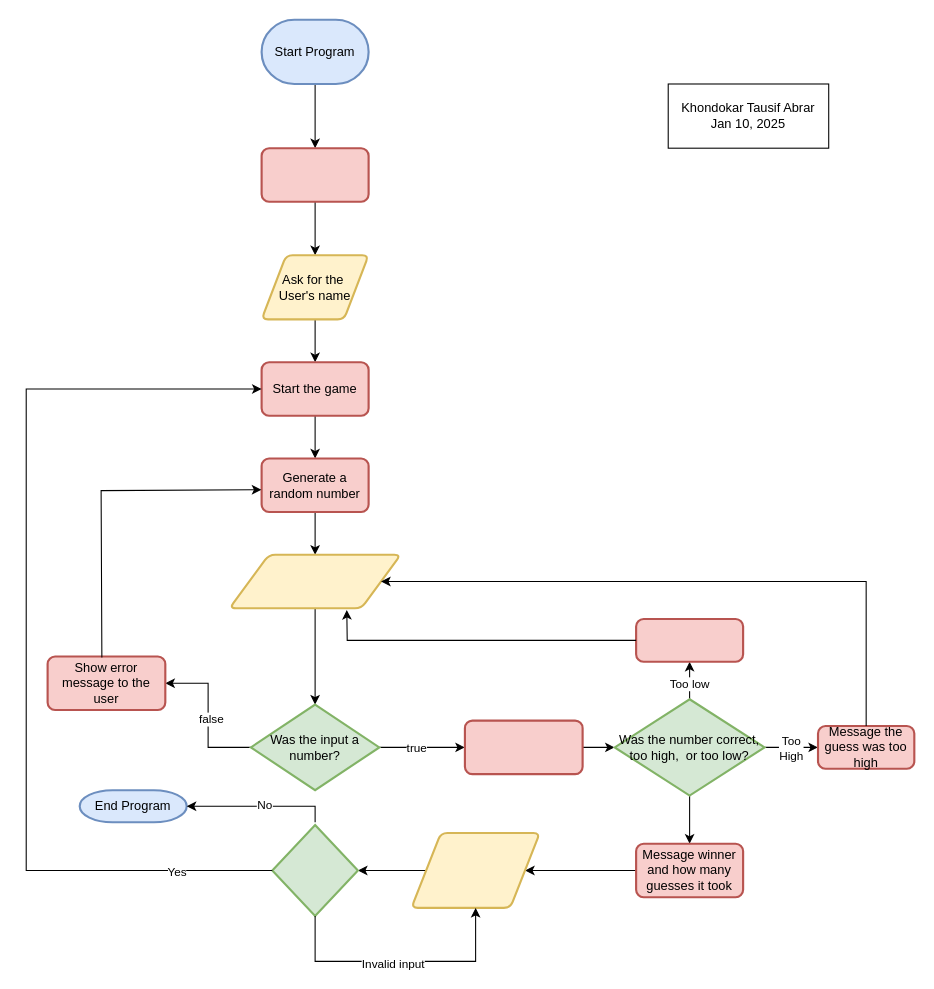
Some shapes in this 934 by 989 pixel diagram are drawn without their labels. The shapes that lost their labels are listed below. From the top down, each one's centre as x and y in pixels, then its label:
pixel 314 174: Welcome The User
pixel 314 581: Wait for the user to guess a number
pixel 689 639: Message the guess was too low
pixel 523 747: Increment the guess count
pixel 314 869: Play again?
pixel 475 869: Ask if they wanna play again?
